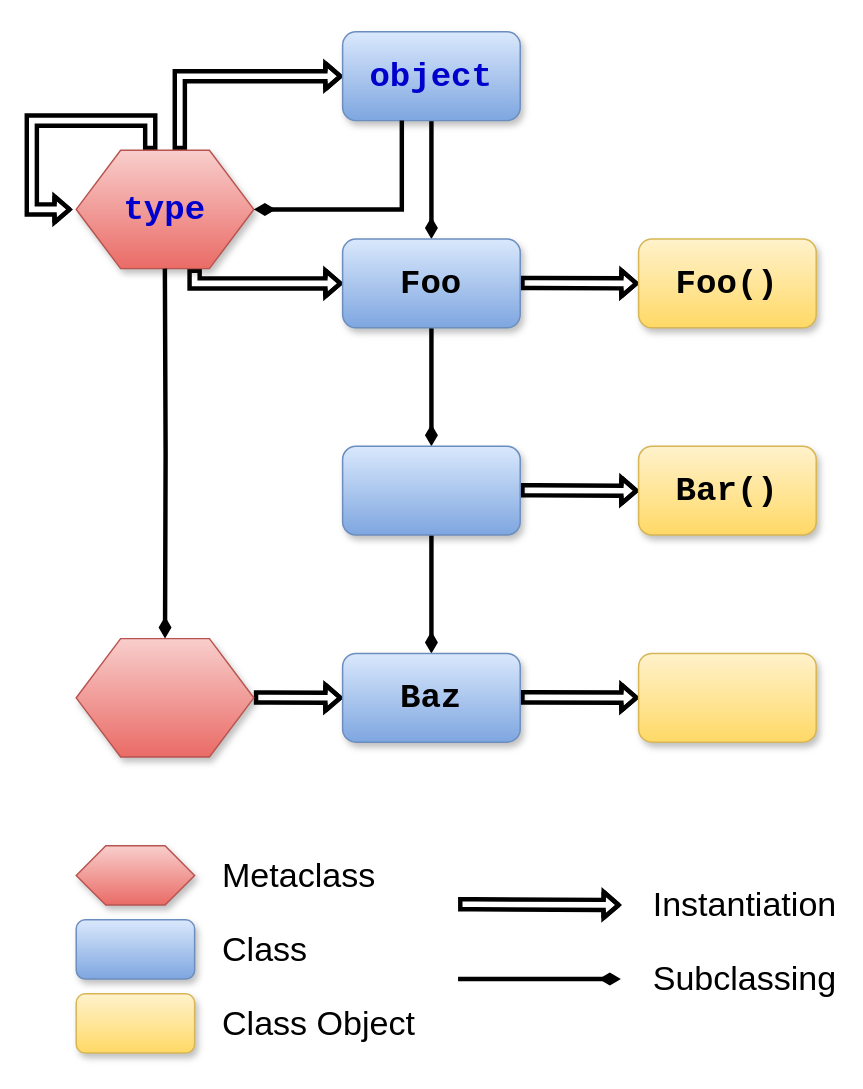
The diagram is 863 pixels wide and 1089 high, and some of its shapes have lost their labels. The shapes that lost their labels are listed below. From the top down, each one's centre as x and y in pixels, then its label:
(x=432, y=492): Bar
(x=166, y=699): BazMeta
(x=728, y=699): Baz()
